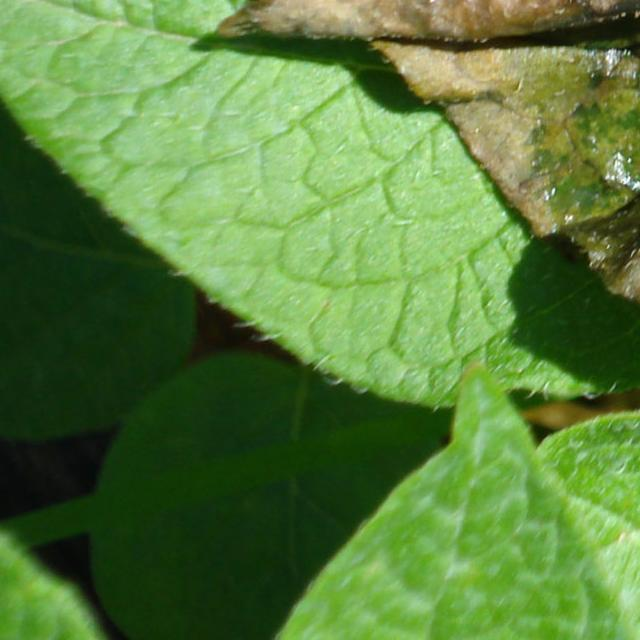Tomato leaf late blight: (194, 0, 640, 441)
